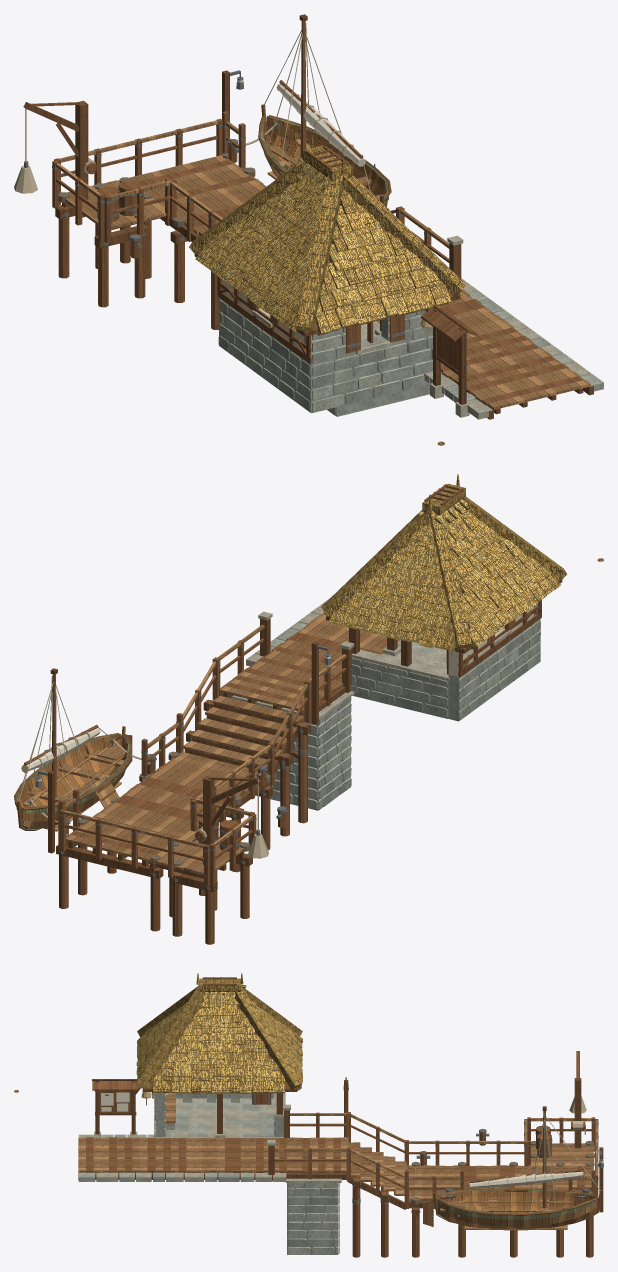
Rendered from haven.glb.
3 views of the same model, one above another, from view 1: azimuth 30°, elevation 25°; view 2: azimuth 150°, elevation 25°; view 3: azimuth 270°, elevation 25° (orthographic). The views are drawn at different scales.
Visible parts, largest first — view 1: Haven_RoofThatch, Haven_ShellWest, Haven_RoofRidge, Haven_DeckPier, Haven_PierRail, Haven_DeckLanding, Haven_PierFrame, Haven_ShellNorth, Haven_Mooring, Haven_PierStone, Haven_ServiceBoat_Rig, Haven_ServiceNotice_Board (+4 smaller); view 2: Haven_RoofThatch, Haven_PierFrame, Haven_PierRail, Haven_DeckLanding, Haven_RoofRidge, Haven_DeckPier, Haven_PierStone, Haven_ShellNorth, Haven_ShellEast, Haven_ServiceBoat_Hull, Haven_Mooring, Haven_StairFlight (+4 smaller); view 3: Haven_RoofThatch, Haven_DeckPier, Haven_PierStone, Haven_PierRail, Haven_ServiceBoat_Hull, Haven_RoofRidge, Haven_DeckLanding, Haven_PierFrame, Haven_FloorShelter, Haven_ServiceBoat_Rig, Haven_ServiceNotice_Board, Haven_Mooring (+7 smaller).
Part boxes in pixels (x1,y1,x2,y2): Haven_RoofThatch: [195, 170, 451, 335]; Haven_ShellWest: [304, 310, 432, 412]; Haven_RoofRidge: [189, 135, 465, 331]; Haven_DeckPier: [376, 290, 590, 409]; Haven_PierRail: [52, 111, 463, 279]; Haven_DeckLanding: [65, 155, 266, 235]; Haven_PierFrame: [55, 153, 593, 419]; Haven_ShellNorth: [218, 280, 322, 412]; Haven_Mooring: [14, 70, 276, 258]; Haven_PierStone: [327, 278, 603, 419]; Haven_ServiceBoat_Rig: [263, 14, 370, 191]; Haven_ServiceNotice_Board: [420, 305, 478, 417]; Haven_RoofThatch: [328, 506, 560, 651]; Haven_PierFrame: [56, 664, 345, 944]; Haven_PierRail: [58, 611, 354, 886]; Haven_DeckLanding: [66, 752, 267, 875]; Haven_RoofRidge: [321, 474, 566, 649]; Haven_DeckPier: [219, 612, 400, 712]; Haven_PierStone: [221, 598, 358, 810]; Haven_ShellNorth: [448, 606, 540, 721]; Haven_ShellEast: [351, 649, 449, 718]; Haven_ServiceBoat_Hull: [14, 726, 132, 830]; Haven_Mooring: [31, 642, 331, 864]; Haven_StairFlight: [183, 695, 304, 768]; Haven_RoofThatch: [136, 993, 302, 1093]; Haven_DeckPier: [78, 1137, 348, 1173]; Haven_PierStone: [78, 1134, 341, 1254]; Haven_PierRail: [267, 1104, 598, 1208]; Haven_ServiceBoat_Hull: [433, 1188, 602, 1230]; Haven_RoofRidge: [137, 973, 302, 1089]; Haven_DeckLanding: [406, 1143, 594, 1201]; Haven_PierFrame: [78, 1140, 593, 1257]; Haven_FloorShelter: [155, 1098, 283, 1137]; Haven_ServiceBoat_Rig: [451, 1106, 599, 1212]; Haven_ServiceNotice_Board: [92, 1079, 151, 1137]; Haven_Mooring: [343, 1051, 603, 1212].
Bounding box in the file's own units: 10.38 × 9.69 × 22.9.
28 materials, 21 textured.
